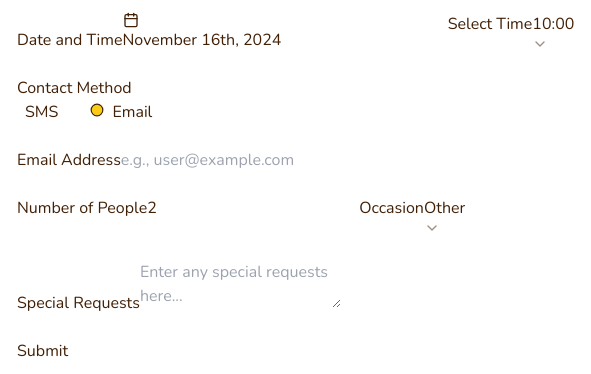
Test: BookingForm › shows SMS input when SMS is selected
Click the button "SMS": (42, 112) [25,101,58,123]
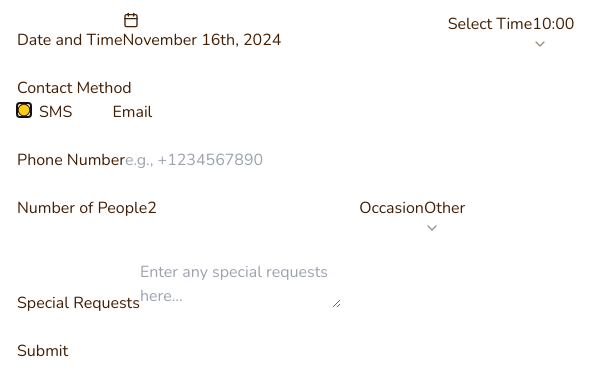
Expected: the text "Phone Number" is shown, [17,149,125,171]
